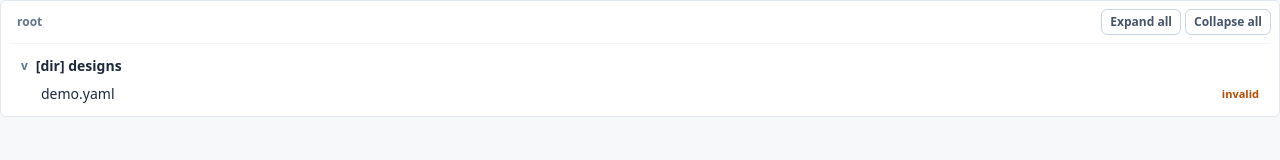
Test: YamlTreeView › collapses and re-expands folders
The image size is (1280, 160).
Click the button named "Collapse designs": (20, 66) [9,54,32,78]
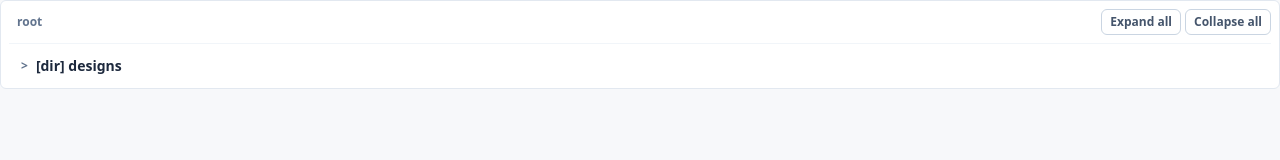
Result: the button "demo.yaml" is gone
Click the button named "Expand designs": (20, 66) [9,54,32,78]
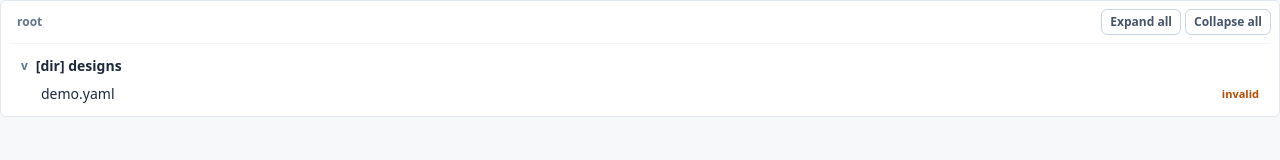
Result: the text "demo.yaml" is shown at [41,84,114,104]
